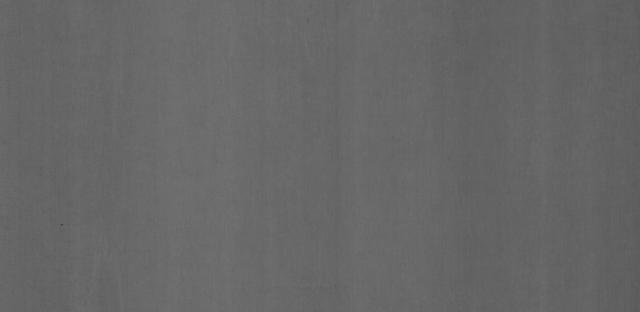inclusion: (56, 221, 66, 230)
